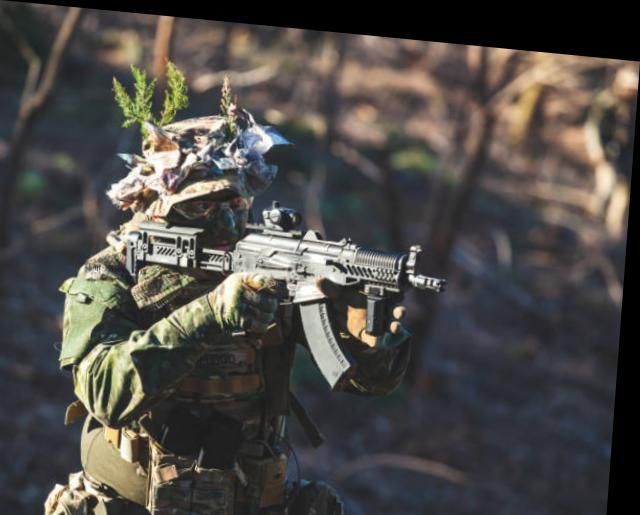other: (32, 76, 414, 514)
